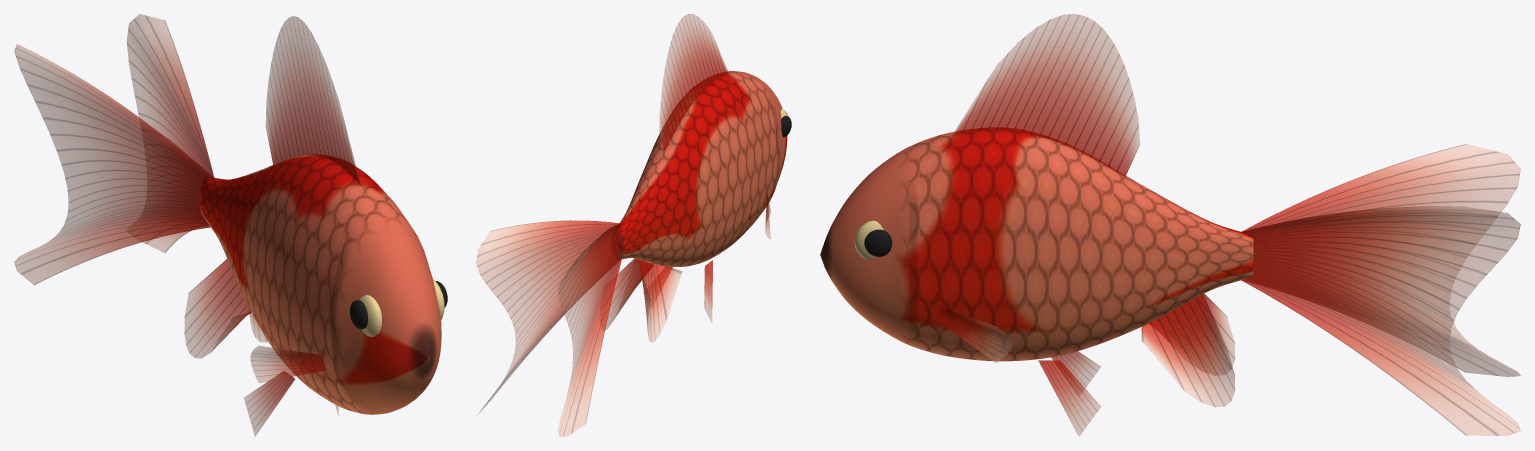
Rendered from ryukin_2.glb.
The picture shows the model from 3 angles, left to right: view 1: azimuth 30°, elevation 25°; view 2: azimuth 150°, elevation 25°; view 3: azimuth 270°, elevation 25°; orthographic projection. The views are drawn at different scales.
Visible parts, largest first — view 1: fins, body, iris, pupil; view 2: fins, body; view 3: fins, body.
Boxes of the visible parts, <box> form: fins: <box>14,14,360,436</box>; body: <box>199,155,441,414</box>; iris: <box>359,279,444,336</box>; pupil: <box>349,281,447,329</box>; fins: <box>476,14,770,436</box>; body: <box>615,71,787,266</box>; fins: <box>935,14,1520,436</box>; body: <box>820,128,1254,361</box>.
Size of the model in its own units: 0.2453 by 0.5994 by 0.9446.
Materials: 4 (2 with a texture image).
